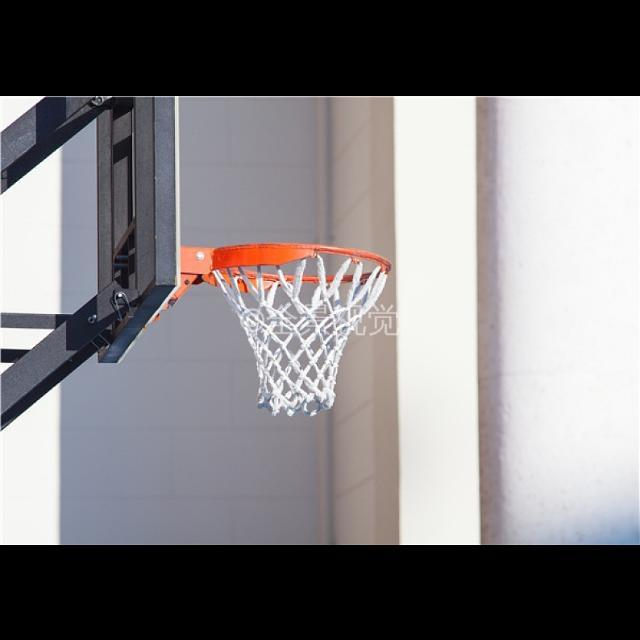rim: (214, 242, 390, 416)
